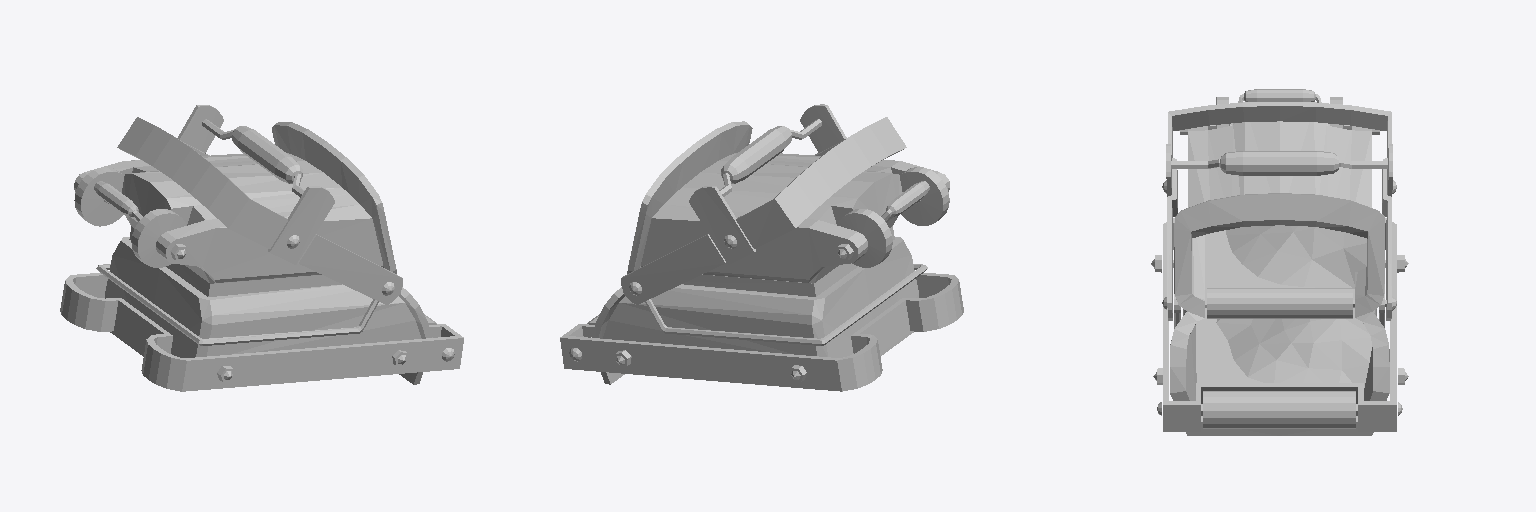
Rendered from dread.obj.
3 views of the same model, side by side, from view 1: azimuth 30°, elevation 25°; view 2: azimuth 150°, elevation 25°; view 3: azimuth 270°, elevation 25° (orthographic).
Visible parts, largest first — view 1: mesh000_low1__M_Body; view 2: mesh000_low1__M_Body; view 3: mesh000_low1__M_Body.
Part boxes in pixels (x1,y1,x2,y2): mesh000_low1__M_Body: (60, 105, 463, 391); mesh000_low1__M_Body: (560, 104, 963, 391); mesh000_low1__M_Body: (1151, 89, 1408, 435).
Size of the model in its own units: 0.9513 by 0.7459 by 0.7091.